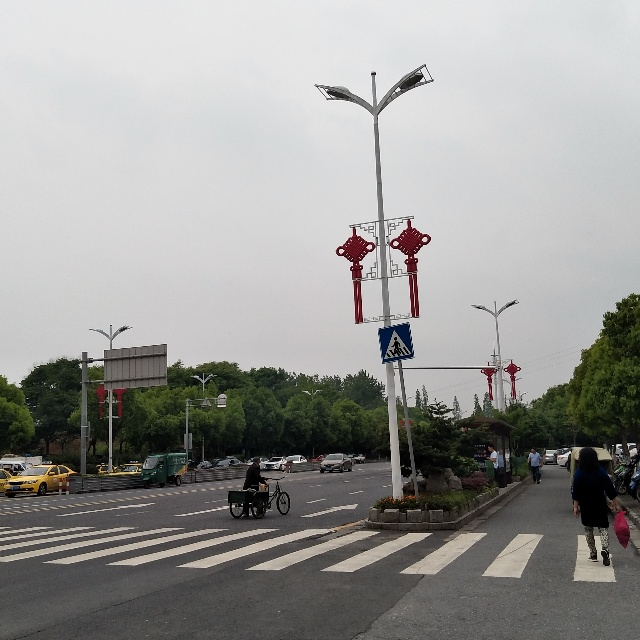crosswalk: (378, 322, 415, 364)
